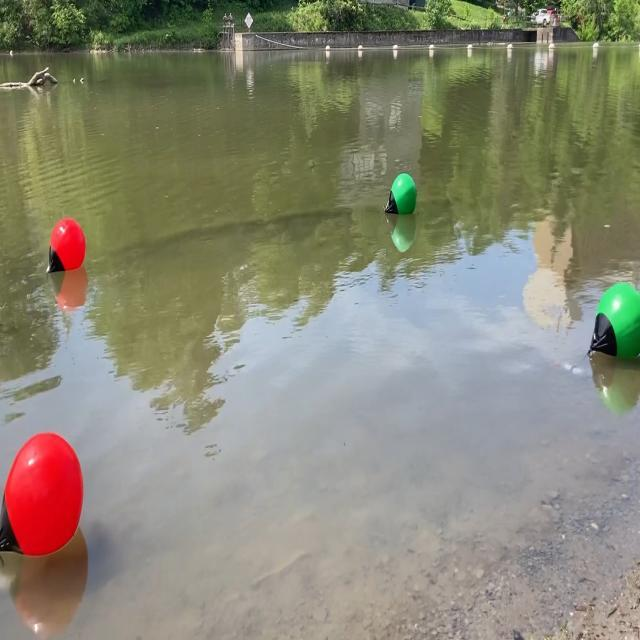buoy: (0, 424, 87, 562), (586, 276, 639, 366), (47, 216, 86, 277), (384, 171, 420, 219)
